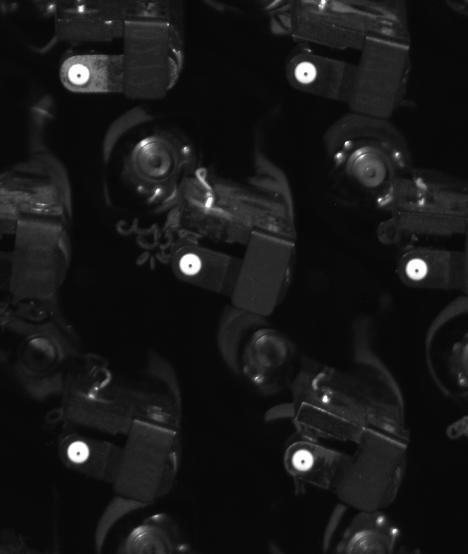fiber: (171, 243, 213, 283), (399, 252, 436, 287), (59, 436, 97, 470), (63, 55, 99, 88), (287, 443, 322, 476), (291, 59, 323, 88)
